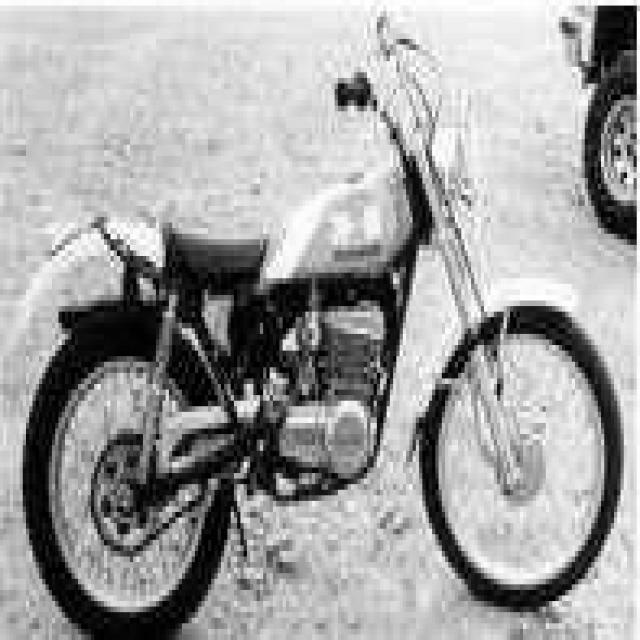Motorcycle: (25, 55, 620, 638)
